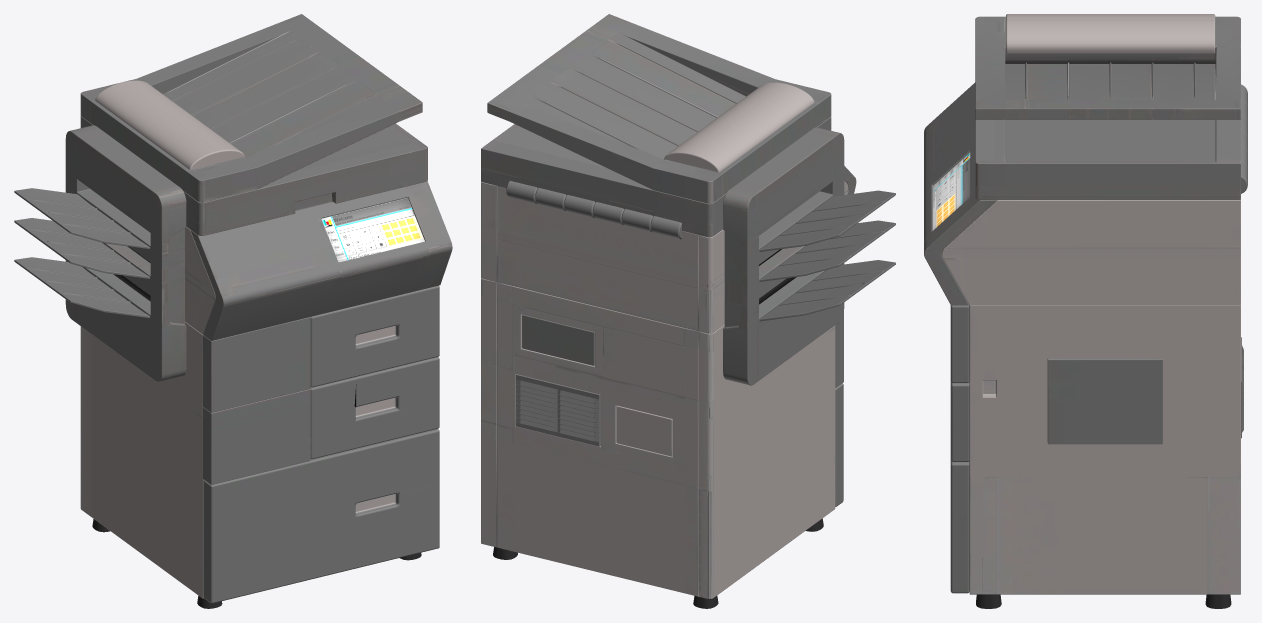
Rendered from copier.glb.
The picture shows the model from 3 angles, left to right: view 1: azimuth 30°, elevation 25°; view 2: azimuth 150°, elevation 25°; view 3: azimuth 270°, elevation 25°; orthographic projection. The views are drawn at different scales.
Parts seen in each view (by area): view 1: Printer Body, Printer Drawer 3, Printer_Trays, Printer Drawer 2, Printer Drawer 1, Printer_Top, Printer_Screen; view 2: Printer Body, Printer_Trays, Printer_Top, Printer Detail, Printer_TopHinge, Printer Drawer 3, Printer_Feet; view 3: Printer Body, Printer_Top, Printer Drawer 3, Printer_Screen, Printer Drawer 1, Printer Drawer 2, Printer_TopHinge, Printer_Feet, Printer_Details 2.
Part boxes in pixels (box(x1,y1,x2,y2)): Printer Body: box(65, 14, 452, 598); Printer Drawer 3: box(203, 429, 439, 603); Printer_Trays: box(14, 188, 149, 318); Printer Drawer 2: box(310, 357, 439, 459); Printer Drawer 1: box(310, 285, 439, 387); Printer_Top: box(95, 80, 244, 169); Printer_Screen: box(321, 197, 424, 262); Printer Body: box(481, 14, 856, 598); Printer_Trays: box(759, 190, 895, 321); Printer_Top: box(664, 82, 814, 172); Printer Detail: box(515, 374, 600, 446); Printer_TopHinge: box(506, 181, 681, 239); Printer Drawer 3: box(835, 383, 843, 506); Printer_Feet: box(493, 518, 823, 608); Printer Body: box(924, 16, 1240, 594); Printer_Top: box(1006, 14, 1215, 53); Printer Drawer 3: box(950, 393, 969, 593); Printer_Screen: box(933, 152, 970, 230); Printer Drawer 1: box(950, 305, 969, 382); Printer Drawer 2: box(951, 381, 969, 461); Printer_TopHinge: box(1241, 84, 1247, 193); Printer_Feet: box(976, 594, 1231, 608); Printer_Details 2: box(1005, 61, 1215, 63).
Bounding box in the file's own units: 0.9169 × 1.22 × 0.7149.
14 materials, 14 textured.
